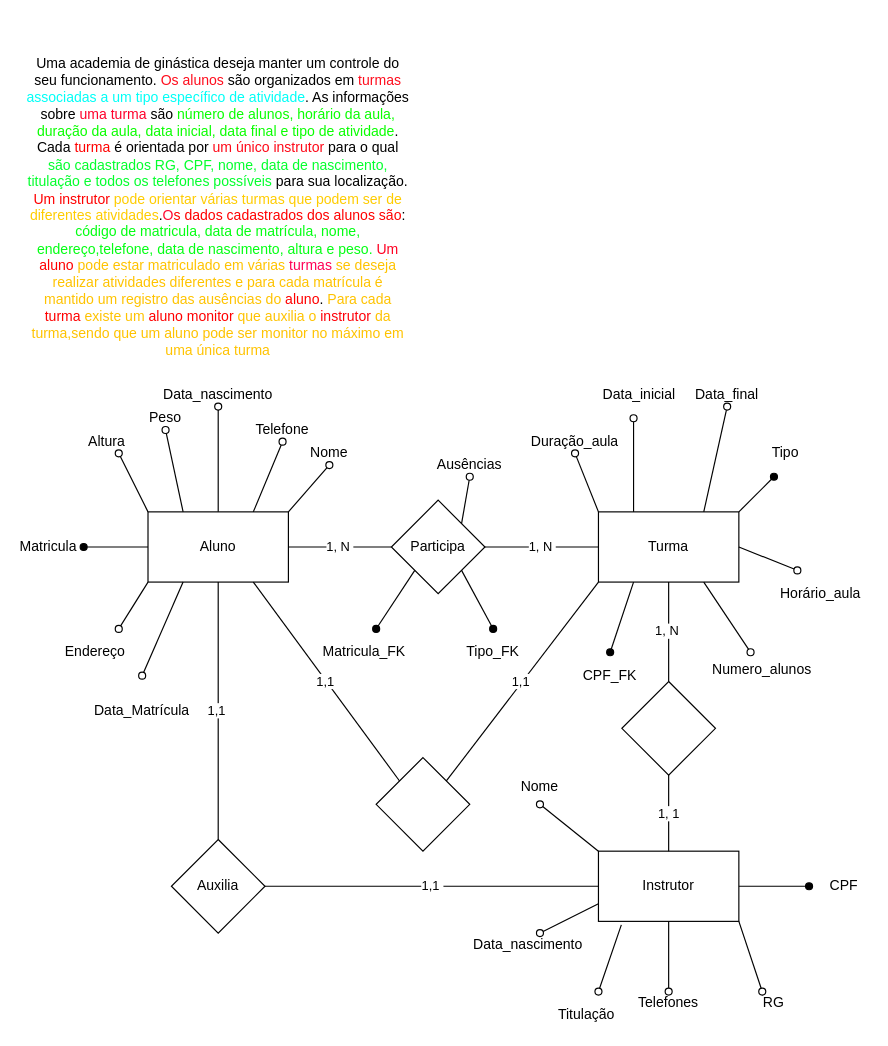
This 888x1046 diagram has some shape labels left out. The shapes that lost their labels are listed below. From the top down, each one's centre as x and y in pixels, then its label:
At (x=668, y=727): "Instrui".
At (x=422, y=803): "É monitor".
